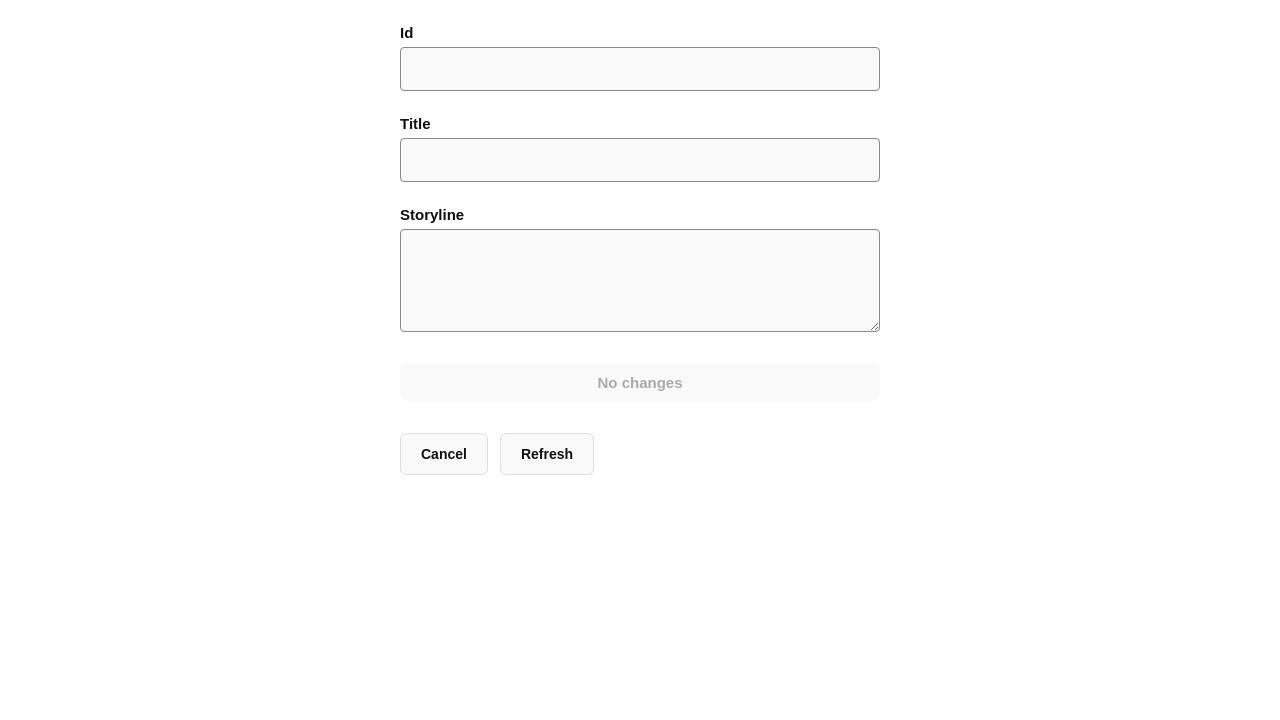
it: submits form and shows modal in success state
Type "binnenhof" into the field labelled "Id" at (640, 69), box [400,47,880,91]
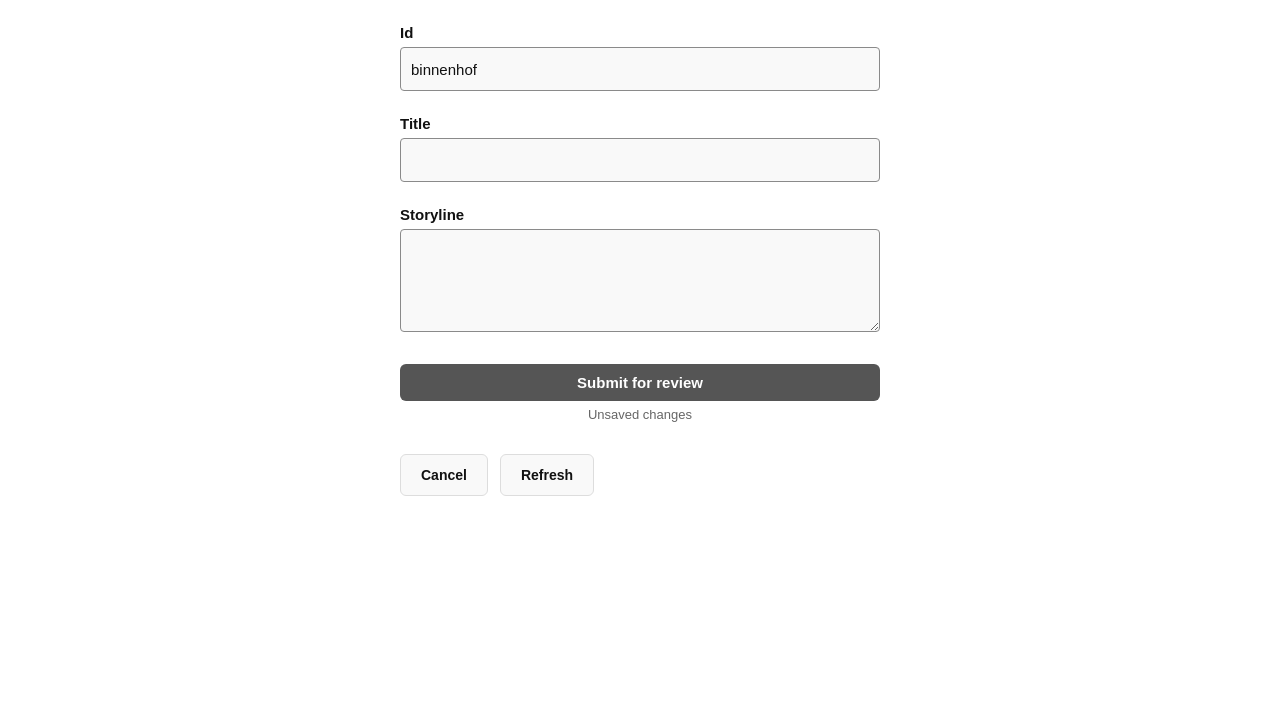
Type "Binnenhof" into the field labelled "Title" at (640, 160), box [400,138,880,182]
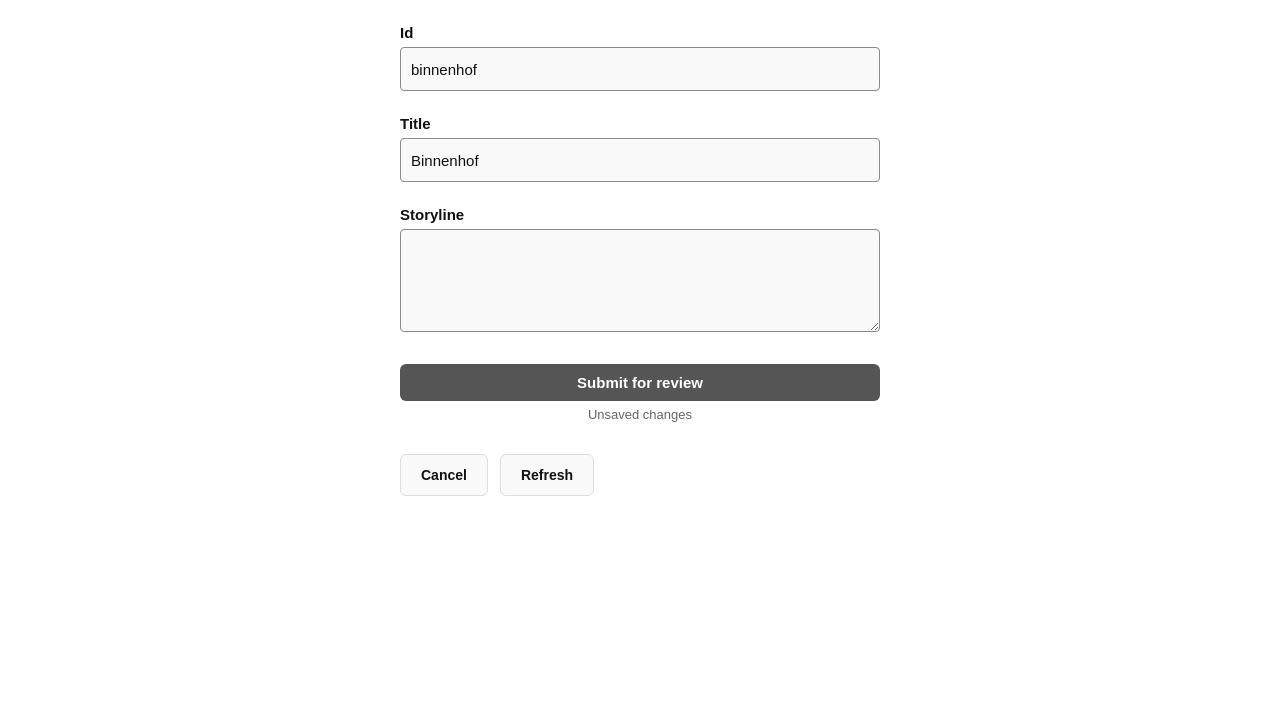
Type "A great place." into the text box labelled "Storyline" at (640, 280), box [400,229,880,332]
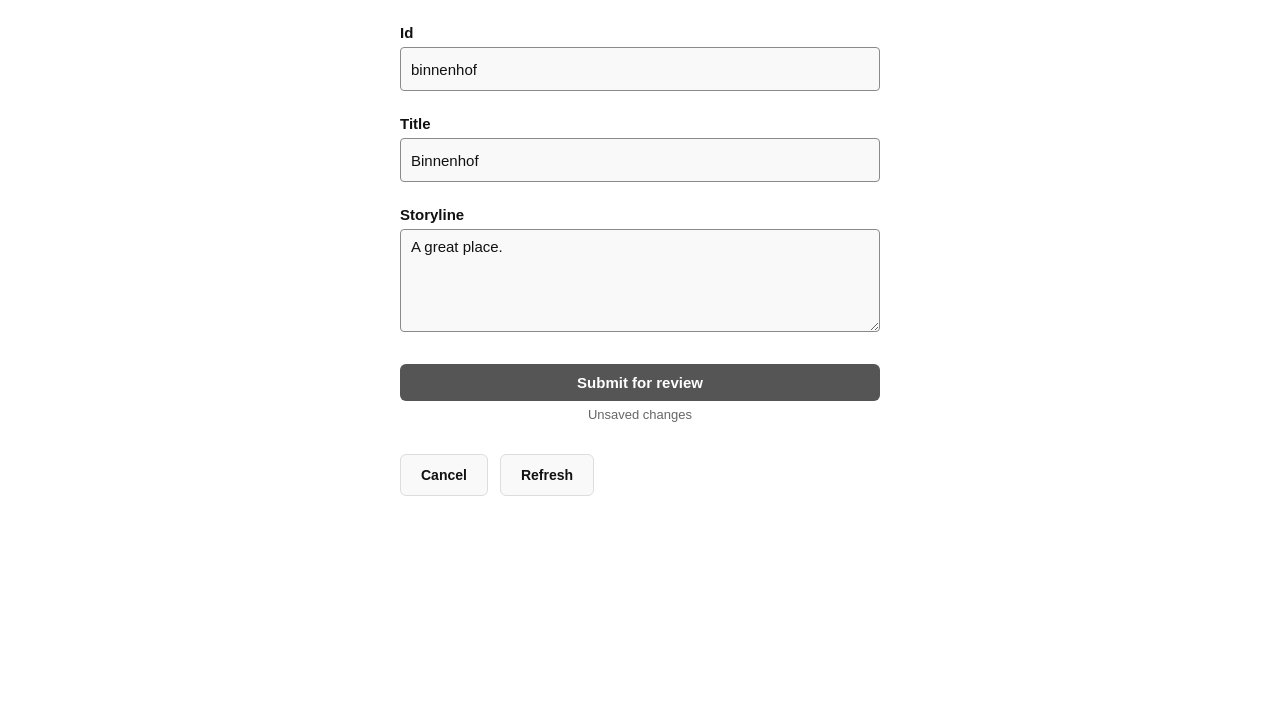
Click the button "Submit for review" at (640, 382), box [400,364,880,401]
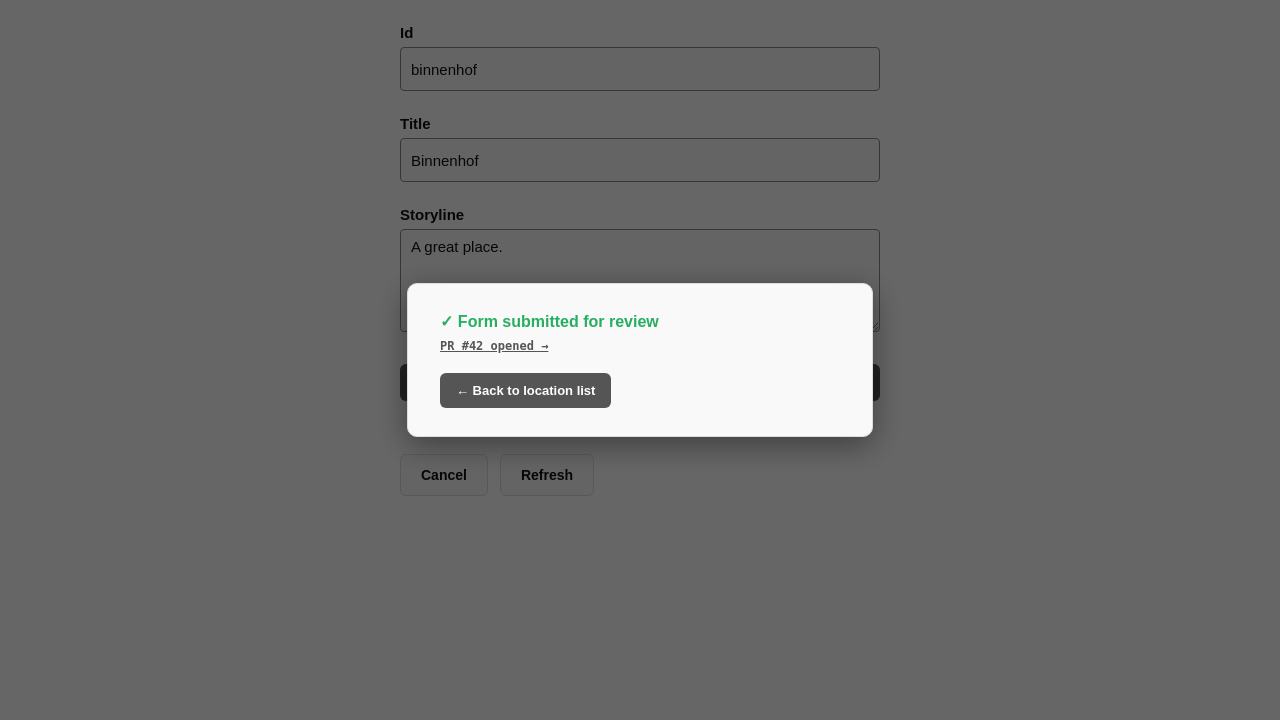
Check: the heading "✓ Form submitted for review" is shown, box [440,313,659,330]
